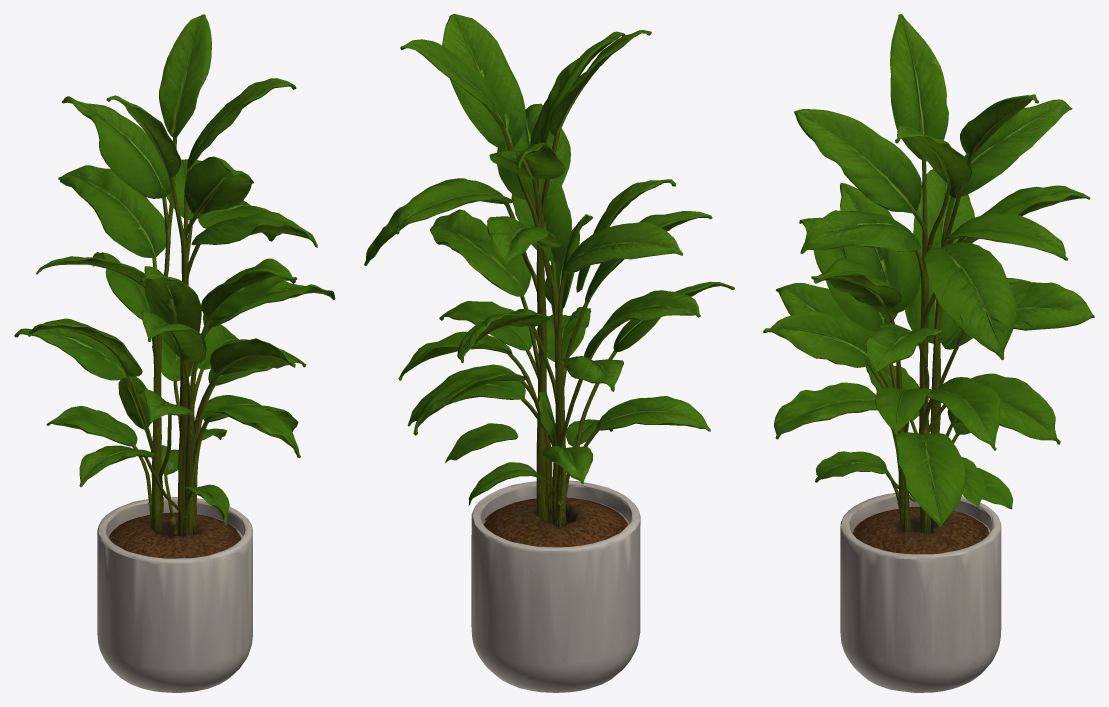
File: plant_indoor_decor_jerovdl.glb
The picture shows the model from 3 angles, left to right: view 1: azimuth 30°, elevation 25°; view 2: azimuth 150°, elevation 25°; view 3: azimuth 270°, elevation 25°; orthographic projection. The views are drawn at different scales.
Visible parts, largest first — view 1: Object_2; view 2: Object_2; view 3: Object_2.
Part boxes in pixels (box(x1,y1,x2,y2)): Object_2: box(14, 14, 335, 692); Object_2: box(364, 14, 734, 692); Object_2: box(763, 14, 1094, 692).
Size of the model in its own units: 1.19 by 2.43 by 1.19.
1 material, 1 textured.
